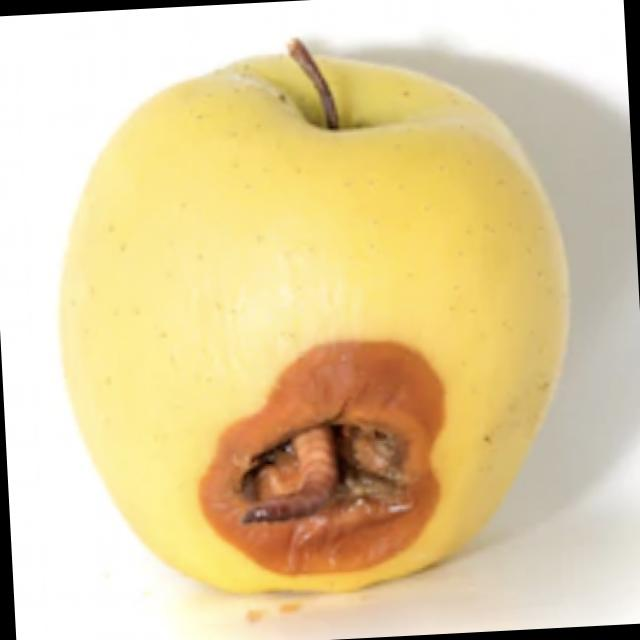rotten_apple: (43, 36, 593, 613)
